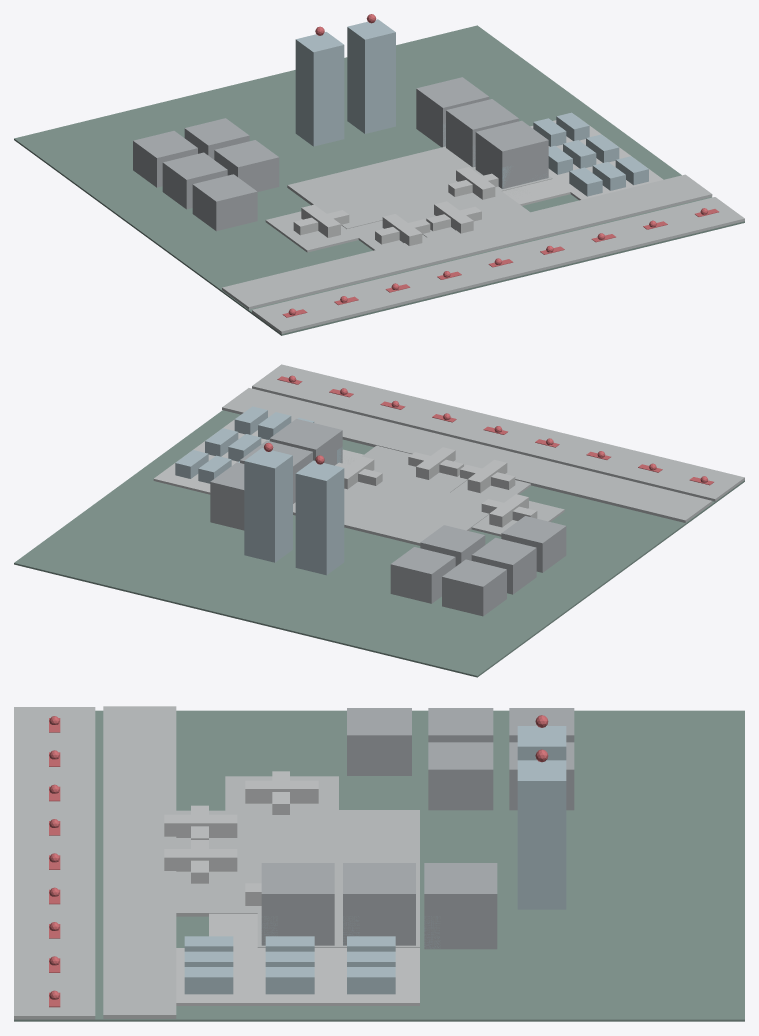
File: stage_23.glb
3 renders of one model, top to bottom at view 1: azimuth 30°, elevation 25°; view 2: azimuth 150°, elevation 25°; view 3: azimuth 270°, elevation 25°, orthographic. The views are drawn at different scales.
Parts seen in each view (by area): view 1: geometry_0; view 2: geometry_0; view 3: geometry_0.
Part boxes in pixels (x1,y1,x2,y2): geometry_0: (14, 14, 744, 335); geometry_0: (14, 364, 744, 677); geometry_0: (14, 706, 744, 1021).
Bounding box in the file's own units: 9 × 2.06 × 9.
